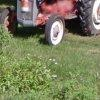Tractor: (5, 1, 100, 49)
